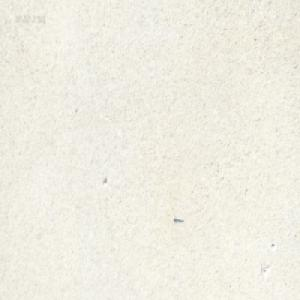Nail: (173, 215, 184, 223)
